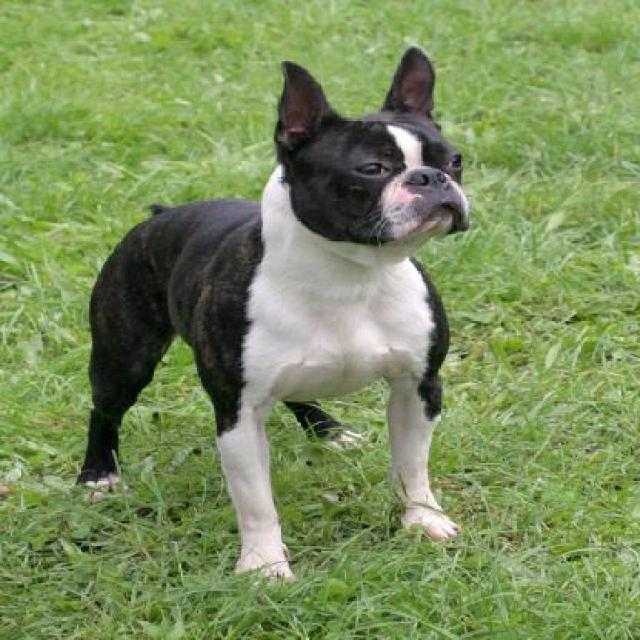animals: (76, 51, 489, 582)
